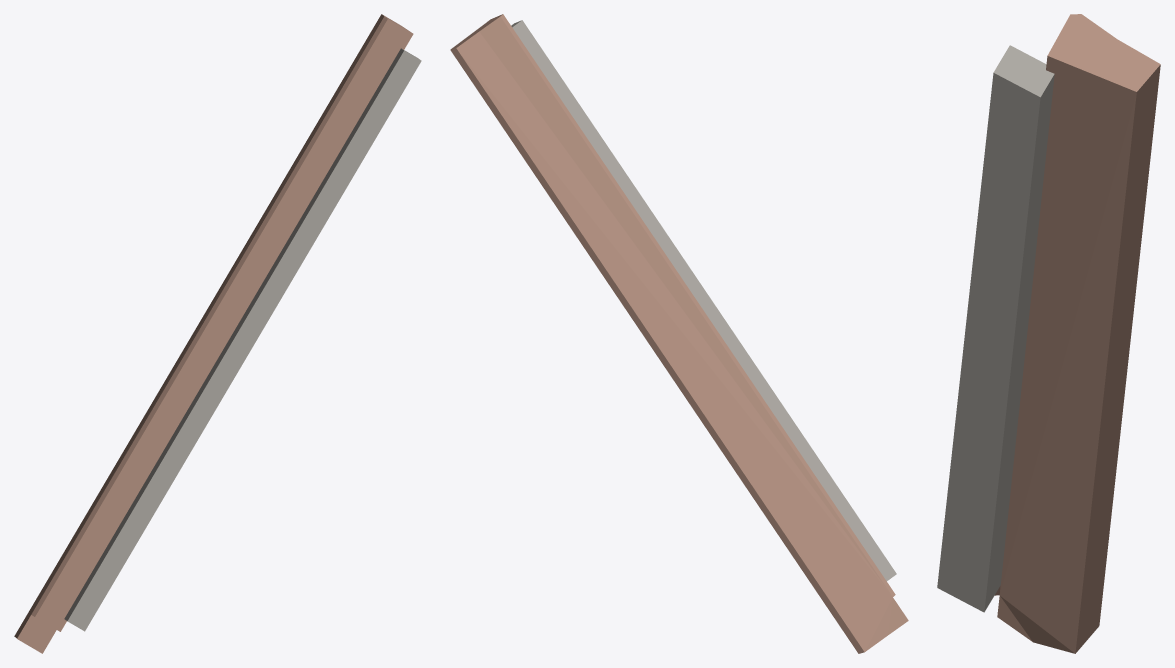
3 views of the same model, side by side, from view 1: azimuth 30°, elevation 25°; view 2: azimuth 150°, elevation 25°; view 3: azimuth 270°, elevation 25° (orthographic). The views are drawn at different scales.
Visible parts, largest first — view 1: mesh; view 2: mesh; view 3: mesh.
Boxes of the visible parts, <box> form: mesh: <box>14,14,421,653</box>; mesh: <box>450,14,908,653</box>; mesh: <box>937,14,1160,653</box>.
Size of the model in its own units: 1.73 by 2.14 by 0.4651.
